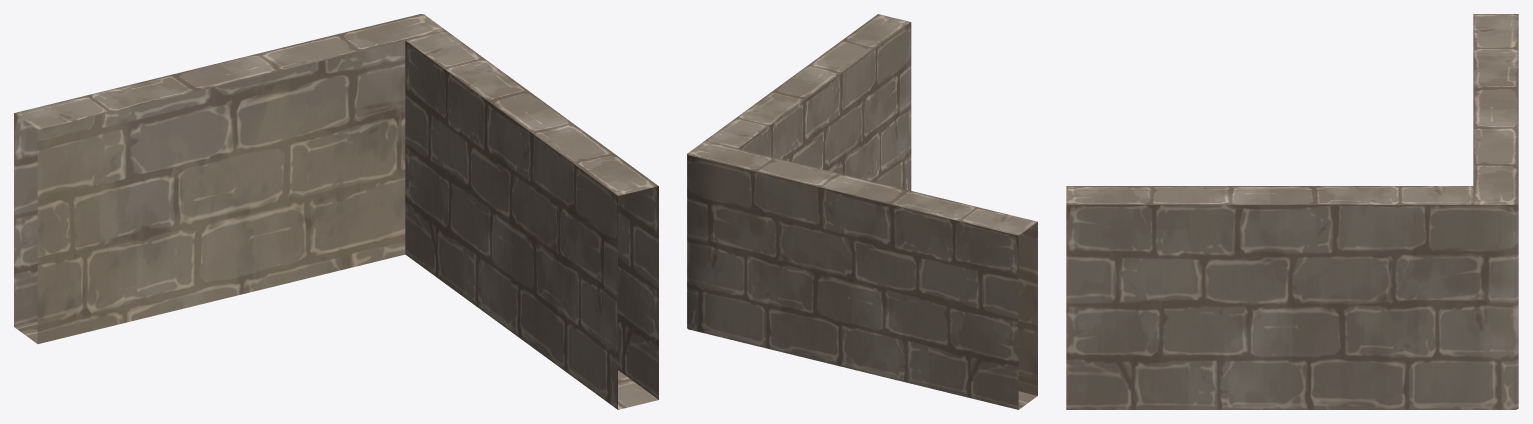
The model's file is Stairs_Exterior_Sides45.gltf.
The picture shows the model from 3 angles, left to right: view 1: azimuth 30°, elevation 25°; view 2: azimuth 150°, elevation 25°; view 3: azimuth 270°, elevation 25°; orthographic projection. The views are drawn at different scales.
Visible parts, largest first — view 1: Stairs_Exterior_Sides45; view 2: Stairs_Exterior_Sides45; view 3: Stairs_Exterior_Sides45.
Part boxes in pixels (x1=…): Stairs_Exterior_Sides45: x1=14, y1=14, x2=658, y2=409; Stairs_Exterior_Sides45: x1=687, y1=14, x2=1037, y2=409; Stairs_Exterior_Sides45: x1=1066, y1=14, x2=1518, y2=409.
Size of the model in its own units: 2 by 1 by 2.
Materials: 1 (1 with a texture image).
